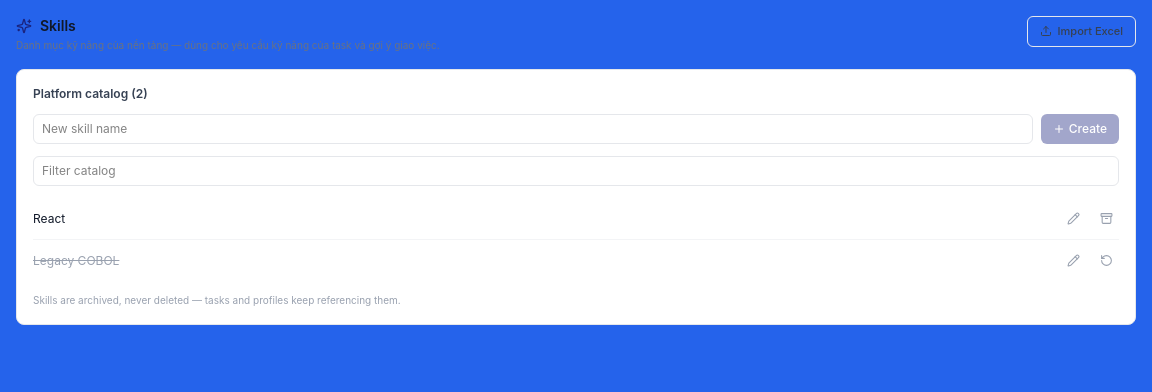
Test: SkillManagement › reports a rejected mutation as an alert
This screenshot has width=1152, height=392.
expect the text "React" is shown: met, box [33,210,65,226]
Type "React" into the field labelled "New skill name" at (533, 129), box [33,114,1033,144]
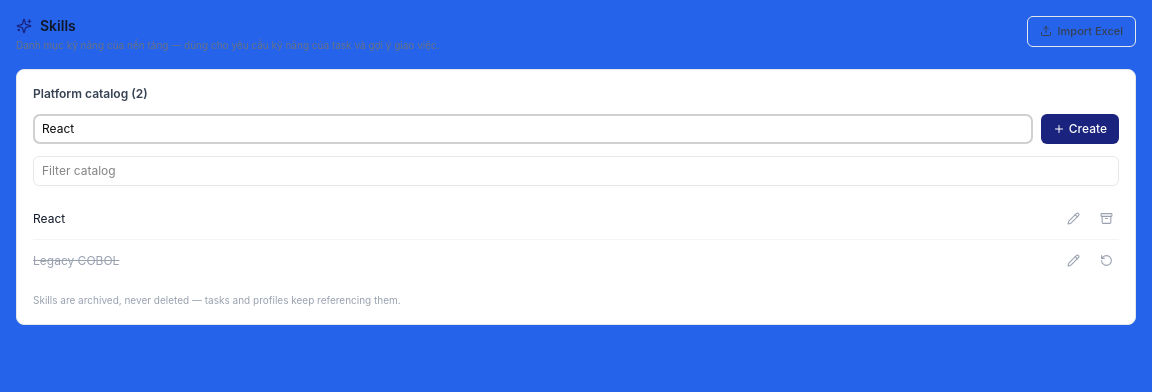
Click the button "Create" at (1080, 129), box [1041,114,1119,144]
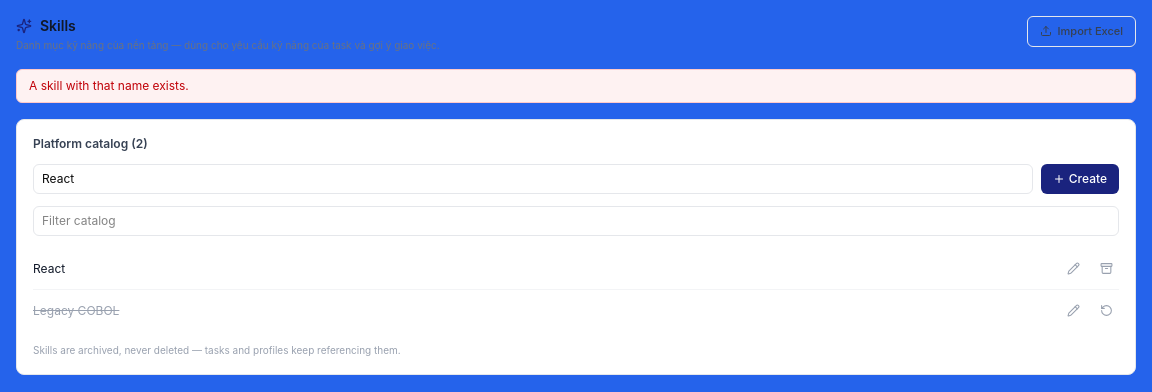
expect the message reads "A skill with that name exists.": met, box [29,78,189,93]
